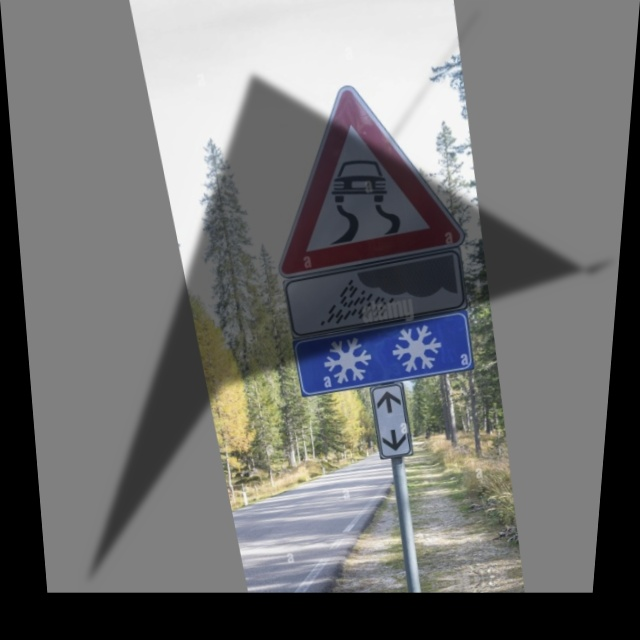Slippery_Road: (258, 73, 461, 268)
